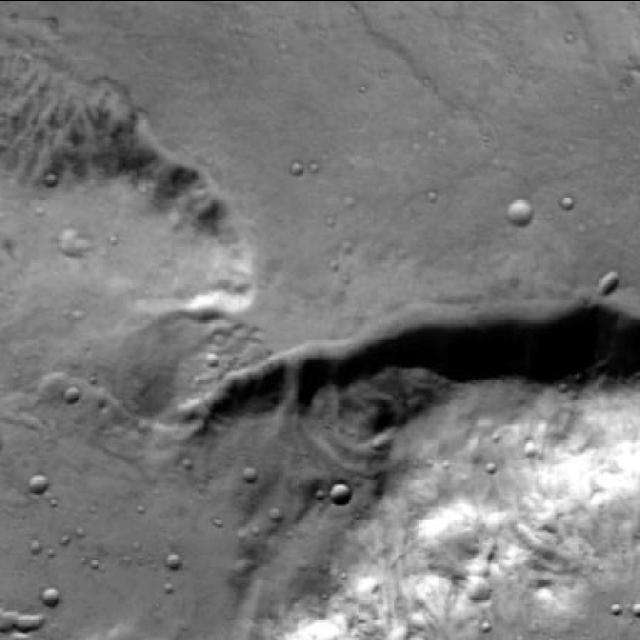crater: (506, 196, 532, 222), (469, 573, 494, 599), (55, 226, 79, 250), (23, 604, 46, 628), (329, 482, 351, 504), (0, 605, 22, 627), (596, 269, 618, 291), (49, 582, 69, 602), (62, 388, 80, 406), (168, 552, 184, 570)
